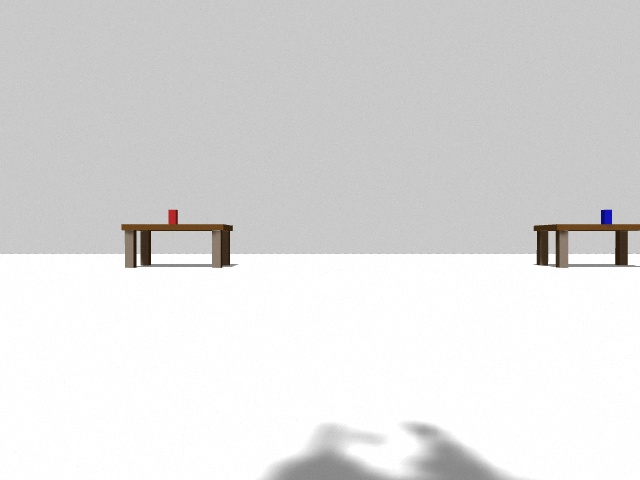blue_cube: (601, 210, 612, 224)
red_cube: (169, 210, 176, 225)
